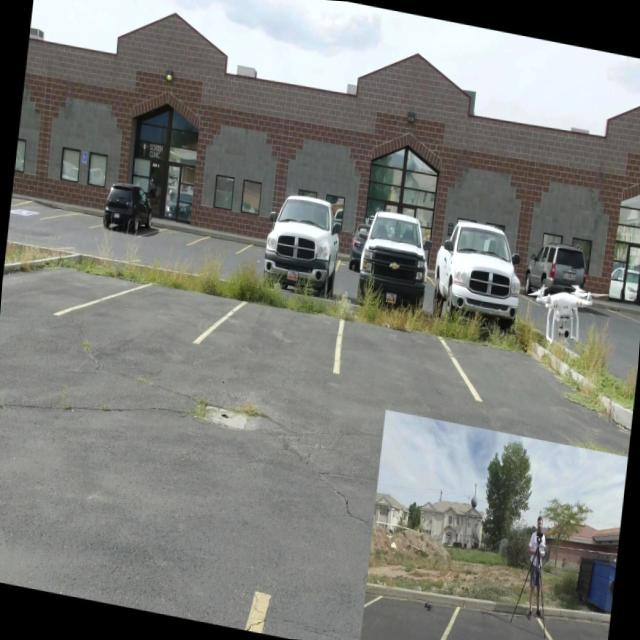drone: (515, 269, 604, 354)
